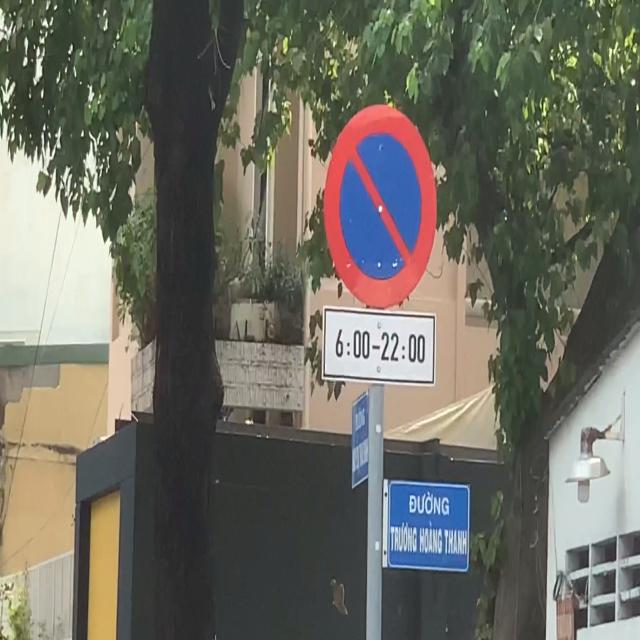Cam do: (324, 101, 442, 304)
